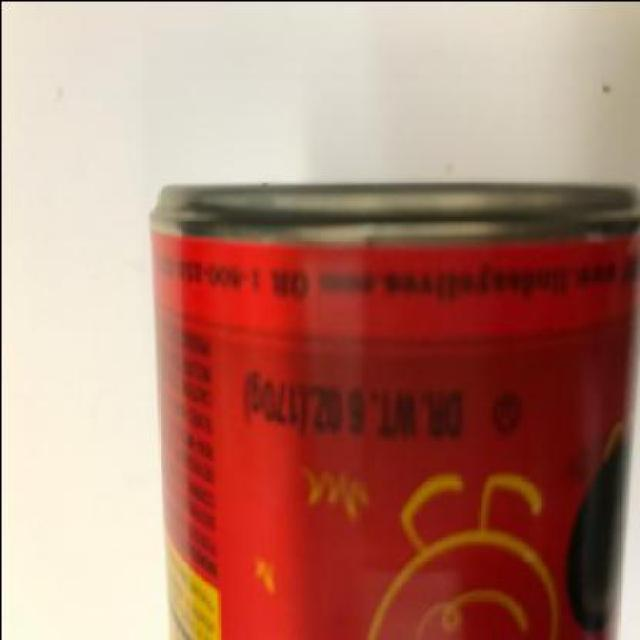METAL: (147, 180, 639, 638)
